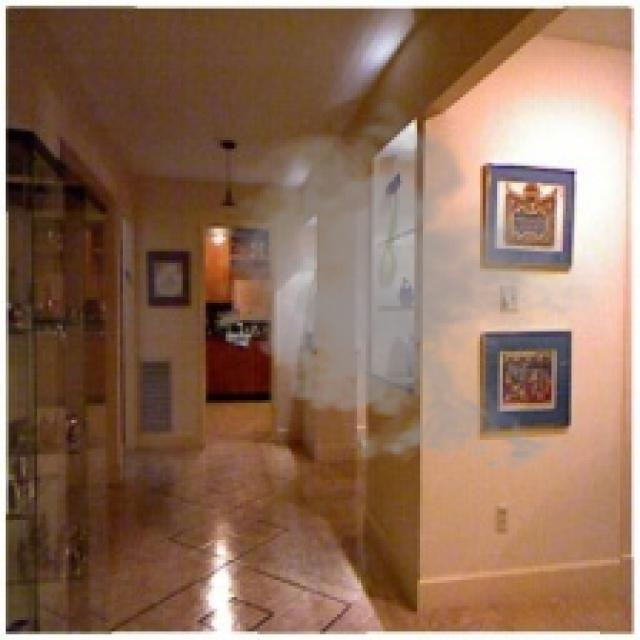smoke: (203, 97, 620, 483)
